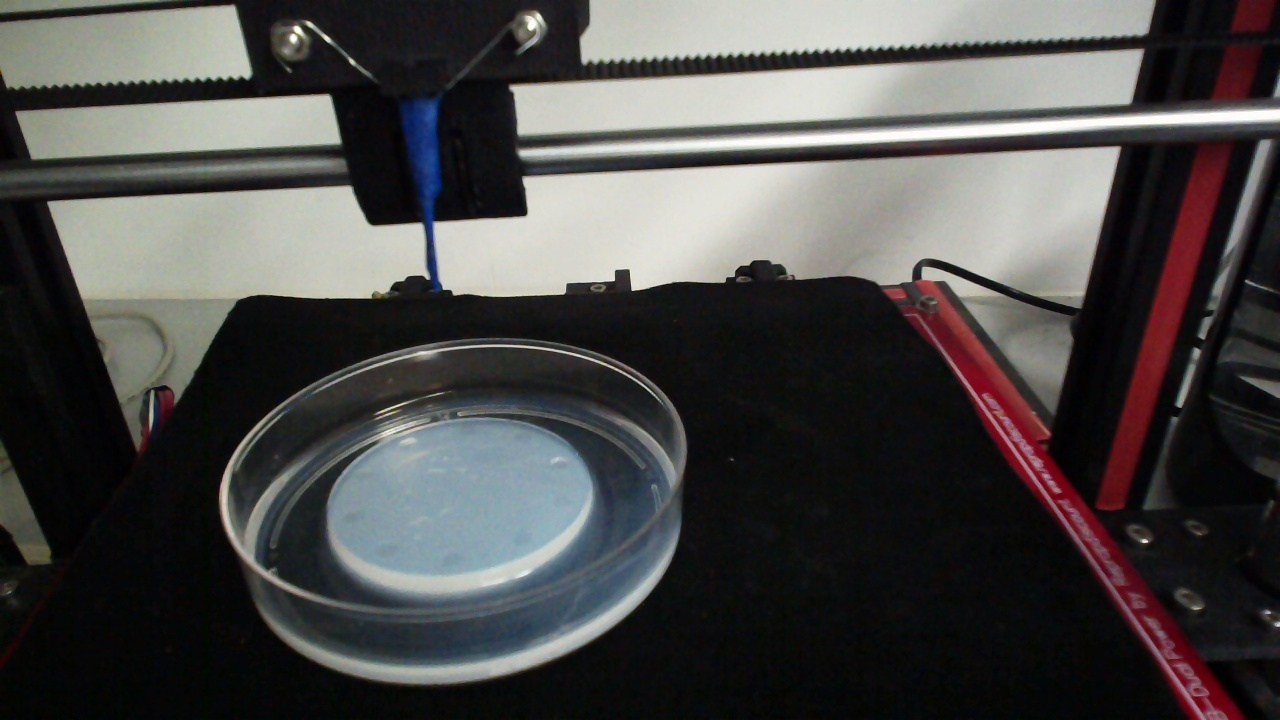groove: (374, 542, 399, 558), (439, 552, 461, 567), (343, 510, 364, 525), (512, 532, 533, 546), (552, 495, 573, 509), (512, 429, 532, 443), (354, 467, 373, 481), (550, 457, 569, 471), (458, 425, 480, 437), (398, 437, 418, 449)
needle: (401, 101, 439, 293)
